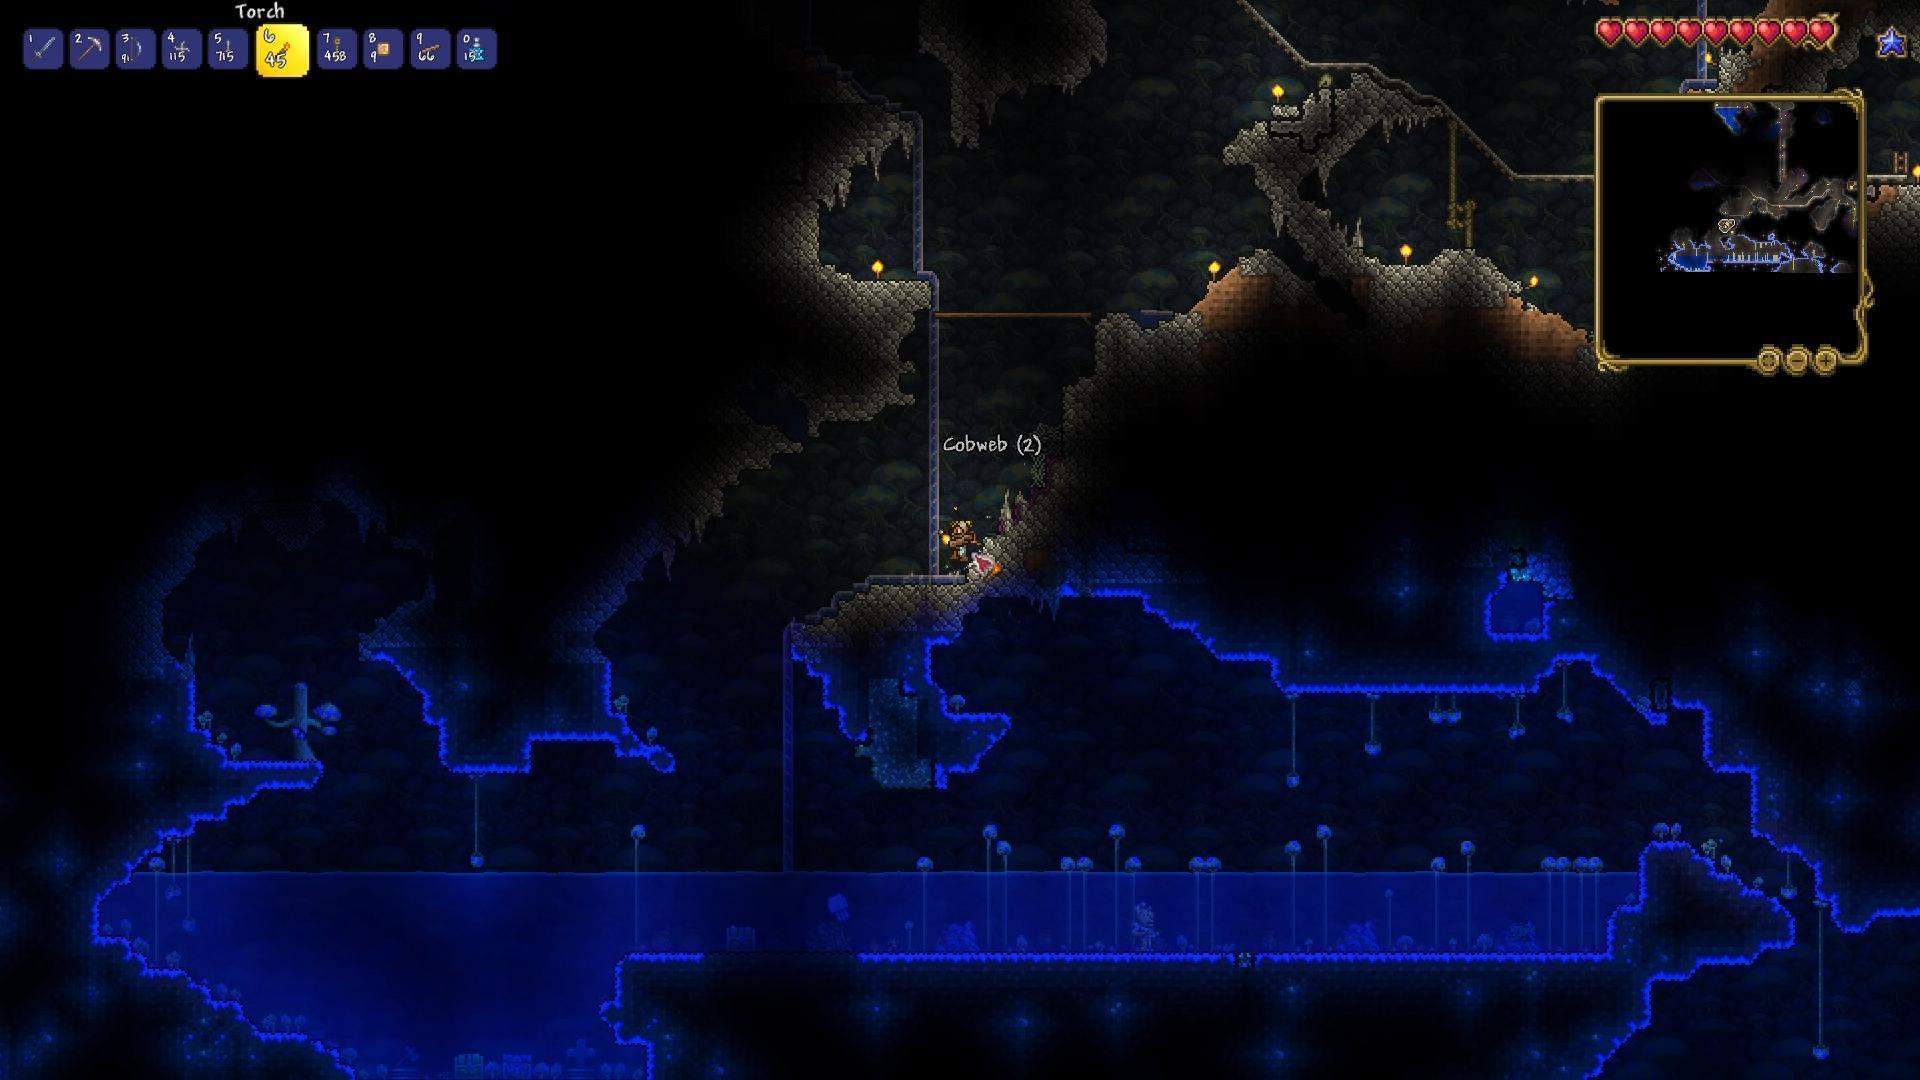bow: (128, 34, 144, 63)
heart: (1702, 17, 1727, 47), (1730, 17, 1754, 47)
knife: (222, 37, 233, 58)
pickaxe: (78, 33, 104, 63)
recallP: (468, 37, 484, 62)
rope: (331, 34, 345, 65)
shuriken: (173, 37, 193, 58)
zombie: (1129, 898, 1160, 955)
